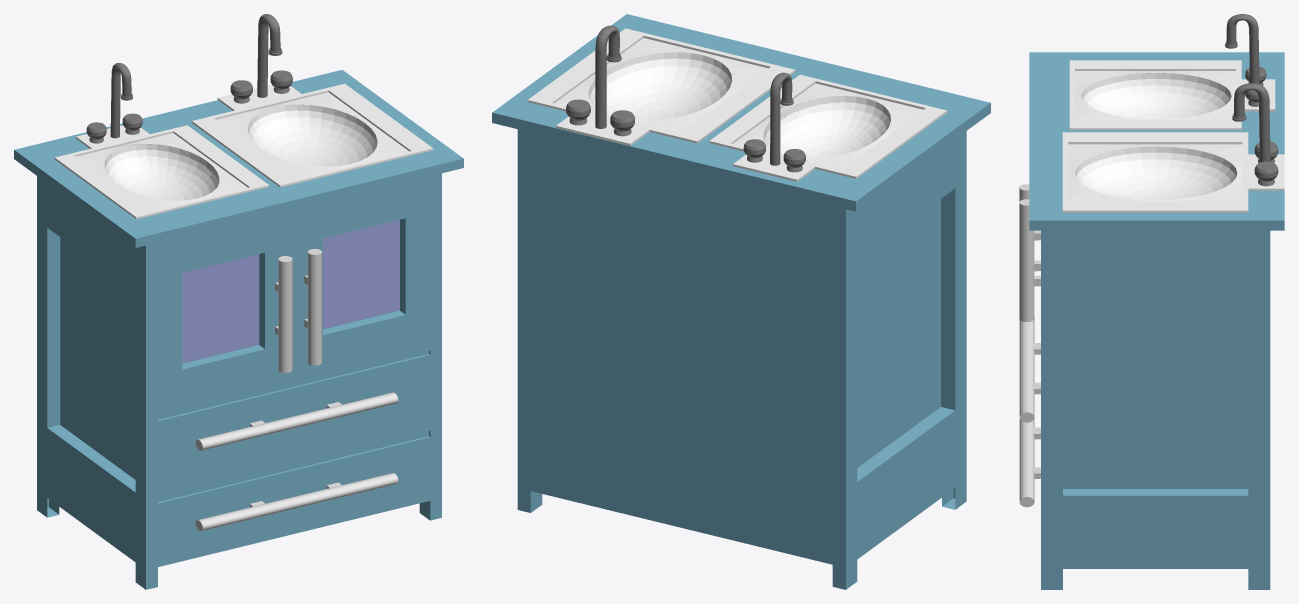
File: washing_station.fbx
The picture shows the model from 3 angles, left to right: view 1: azimuth 30°, elevation 25°; view 2: azimuth 150°, elevation 25°; view 3: azimuth 270°, elevation 25°; orthographic projection. The views are drawn at different scales.
Visible parts, largest first — view 1: sink_body, sink, sink_glass, handles, faucet; view 2: sink_body, sink, faucet; view 3: sink_body, sink, handles, faucet.
Boxes of the visible parts, x1,y1,x2,y2 form: sink_body: [14, 69, 463, 589]; sink: [54, 83, 433, 219]; sink_glass: [182, 219, 399, 363]; handles: [195, 249, 398, 531]; faucet: [86, 14, 292, 143]; sink_body: [492, 14, 990, 589]; sink: [527, 28, 946, 181]; faucet: [566, 25, 805, 172]; sink_body: [1029, 52, 1284, 589]; sink: [1062, 60, 1284, 212]; handles: [1019, 184, 1040, 507]; faucet: [1225, 14, 1278, 186].
Size of the model in its own units: 429 by 557 by 286.
